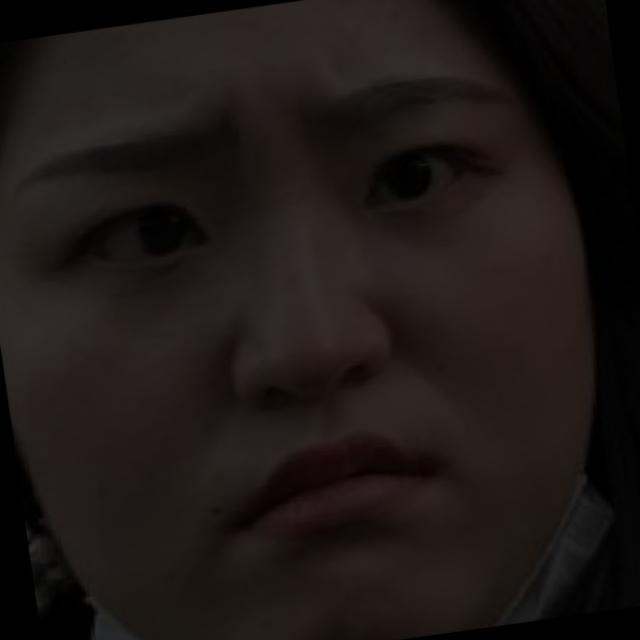Disgust: (30, 87, 627, 634)
